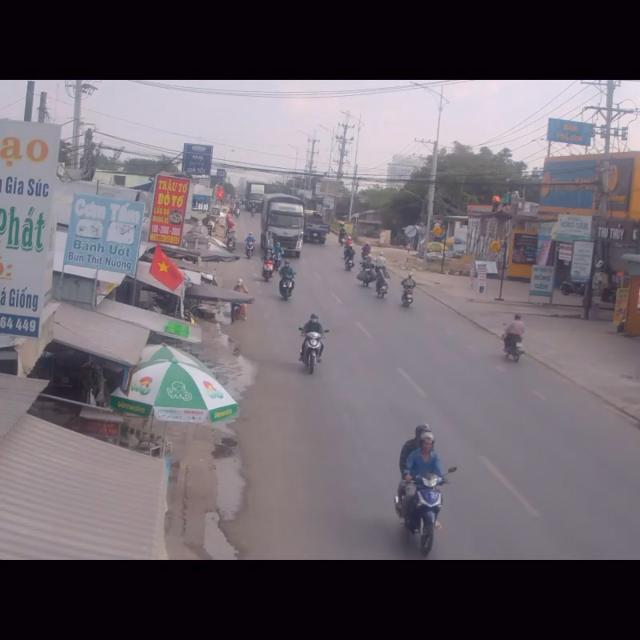motorbike: (392, 424, 450, 558), (300, 311, 327, 378), (500, 315, 523, 369), (278, 258, 296, 302), (399, 272, 414, 309), (375, 264, 389, 299), (361, 256, 373, 293), (344, 243, 358, 274), (262, 251, 276, 282)
truck: (260, 193, 305, 261)
